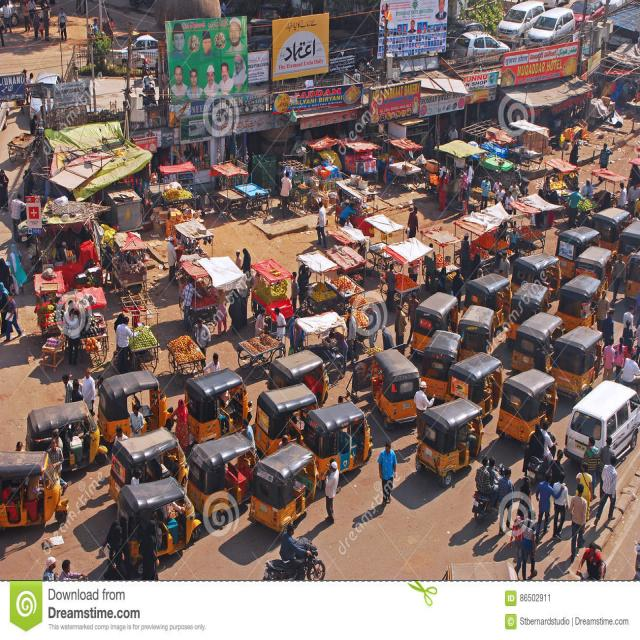autorikshaw: (118, 476, 202, 575), (251, 440, 318, 530), (304, 396, 373, 483), (416, 398, 484, 485), (100, 370, 171, 448), (188, 438, 256, 512), (183, 366, 250, 439), (256, 384, 322, 454), (498, 368, 558, 444), (370, 348, 422, 427), (446, 351, 503, 419), (554, 325, 604, 398), (513, 314, 565, 374), (422, 330, 462, 401), (415, 289, 458, 350)
